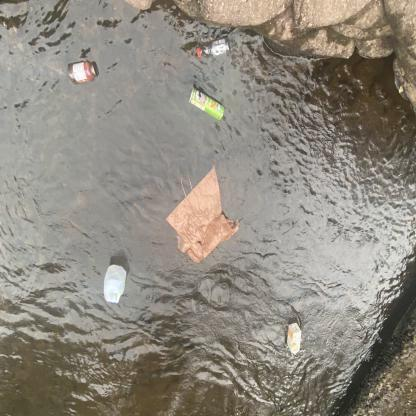Glass: (66, 55, 101, 87)
Metal: (184, 84, 230, 122)
Plastic: (99, 260, 130, 310), (195, 31, 234, 59)
Trash: (164, 162, 244, 269)
